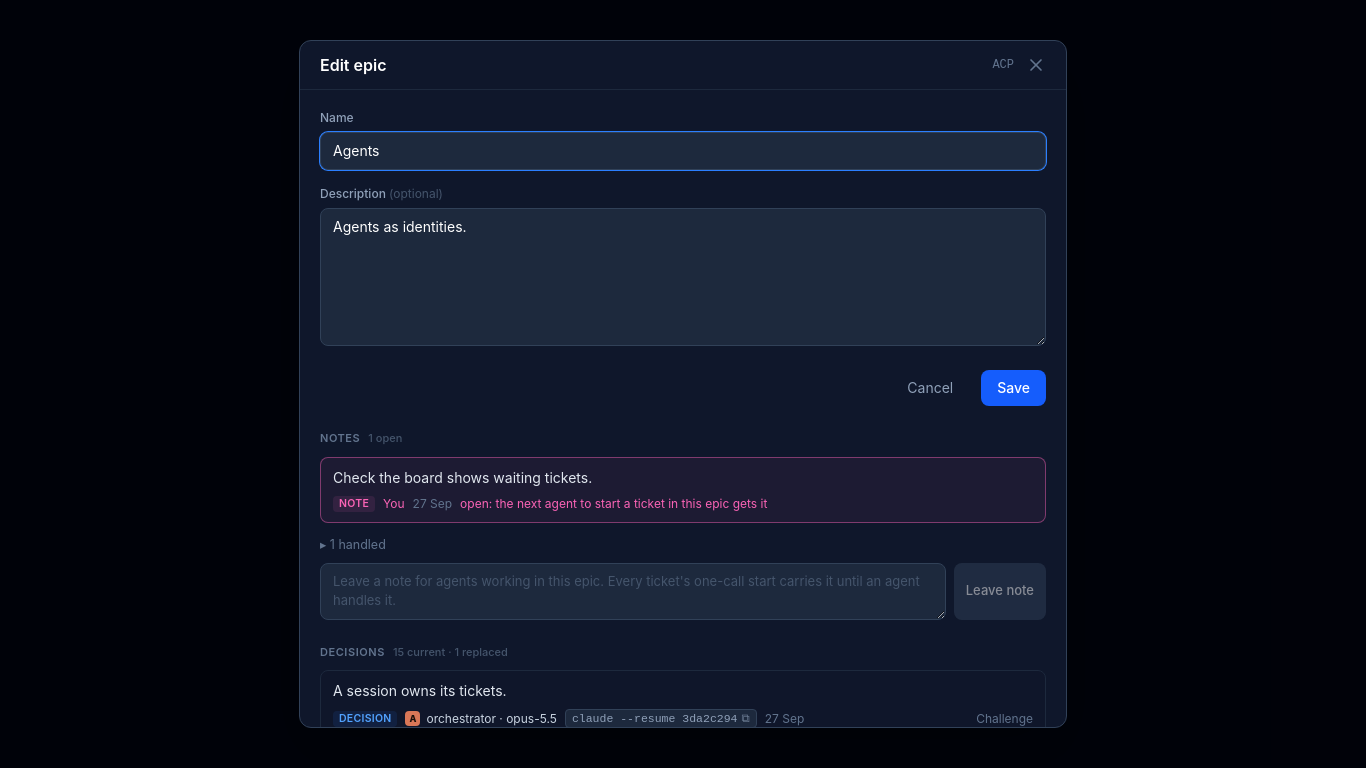
Test: the epic dialog's entries › sit between the description and Documents, grouped by type: notes, decisions, learnings
Expected: the text "15 current · 1 replaced" is shown, [393, 644, 508, 660]
Expected: the text "Use a temp DB." is not shown
Click the button "▸ 1 handled": click(353, 545) [320, 536, 386, 554]
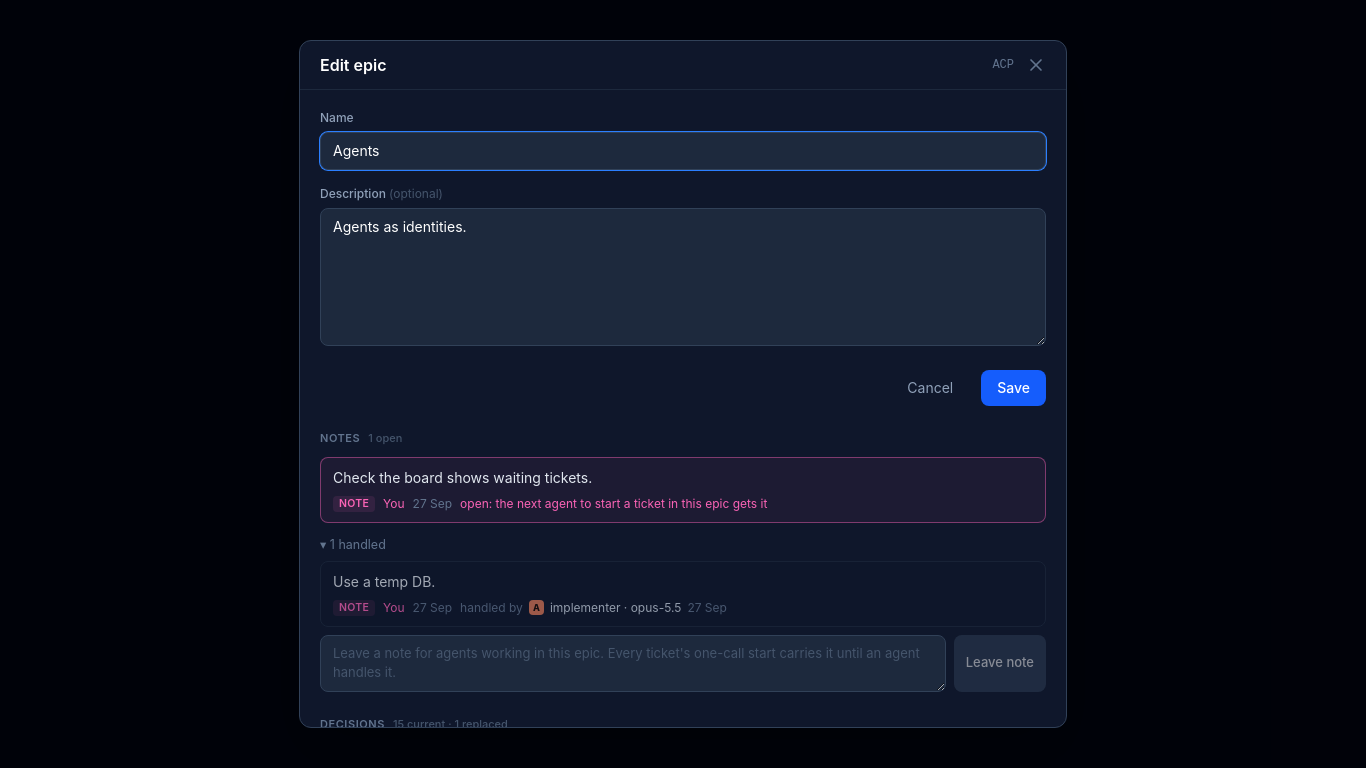
Expected: the text "handled by A implementer · opus-5.5 27 Sep" is shown, [460, 600, 727, 616]
